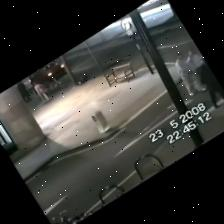person: (200, 59, 223, 108), (176, 53, 202, 95), (187, 50, 203, 81), (187, 50, 203, 72), (33, 82, 49, 101), (18, 82, 31, 102)
